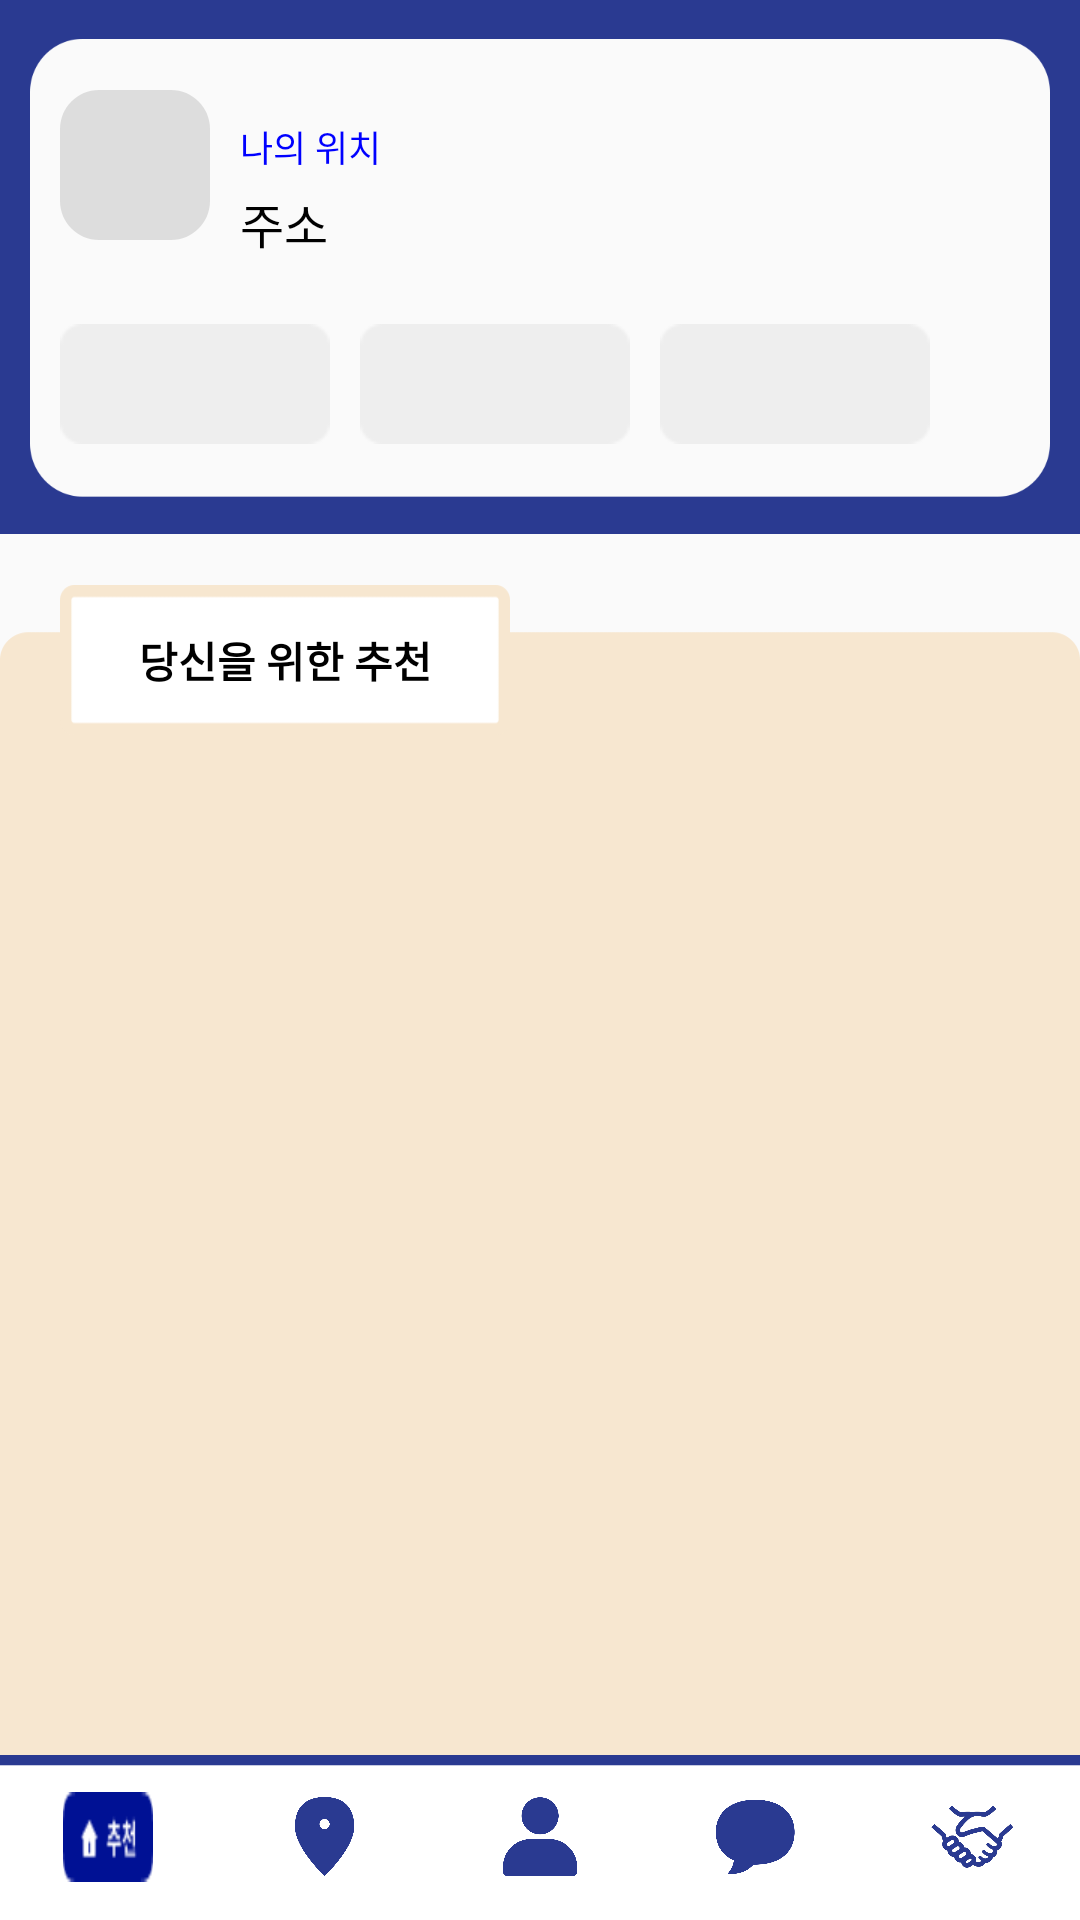

Named icons in this screenshot (1080 × 1920) and their bounding boxes, box(x1, y1, x2, y2):
hand: box(931, 1806, 1013, 1868)
map: box(295, 1797, 354, 1876)
message: box(716, 1800, 795, 1874)
profile: box(503, 1797, 577, 1876)
